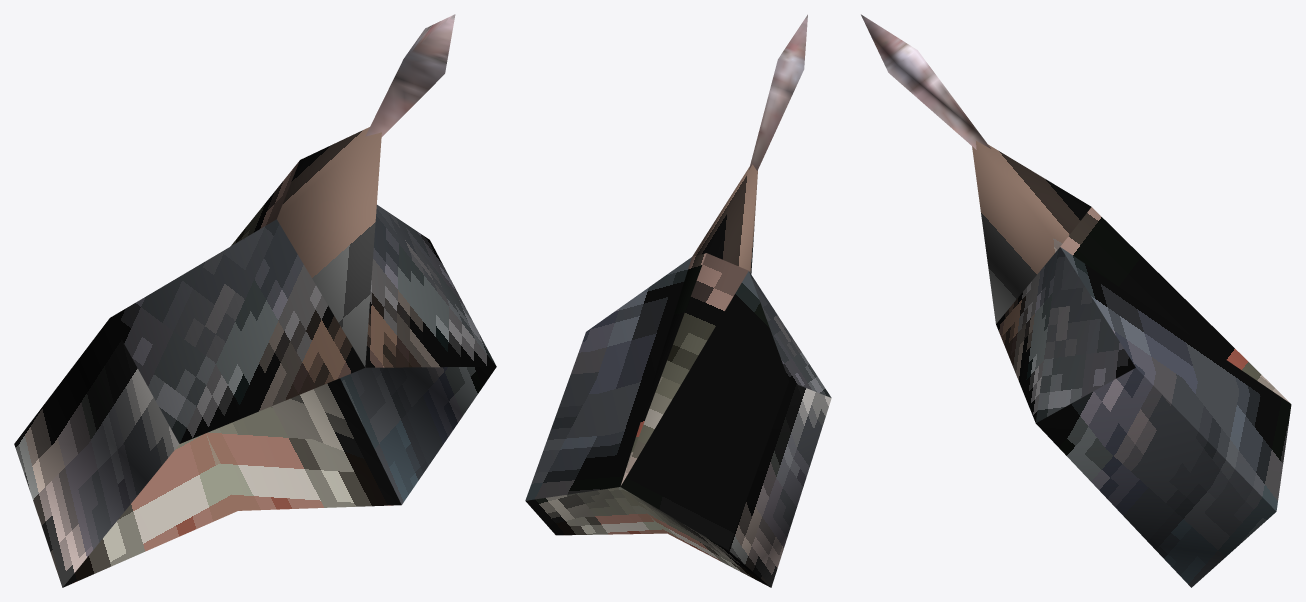
Rendered from jetpack_mandalorian_s01_l3.fbx.
The picture shows the model from 3 angles, left to right: view 1: azimuth 30°, elevation 25°; view 2: azimuth 150°, elevation 25°; view 3: azimuth 270°, elevation 25°; orthographic projection. The views are drawn at different scales.
Parts seen in each view (by area): view 1: mesh_node; view 2: mesh_node; view 3: mesh_node.
Boxes of the visible parts, box(x1,y1,x2,y2) form: mesh_node: box(14, 14, 496, 587); mesh_node: box(525, 14, 831, 587); mesh_node: box(861, 14, 1291, 587).
Size of the model in its own units: 0.3173 by 0.6238 by 0.4755.
Materials: 2 (2 with a texture image).
